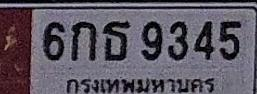3: (168, 20, 188, 60)
4: (194, 20, 213, 60)
5: (219, 20, 241, 60)
6: (43, 21, 64, 60)
9: (141, 20, 162, 60)
A01: (70, 21, 96, 61)
A24: (102, 20, 130, 60)
BKK: (59, 74, 221, 94)
